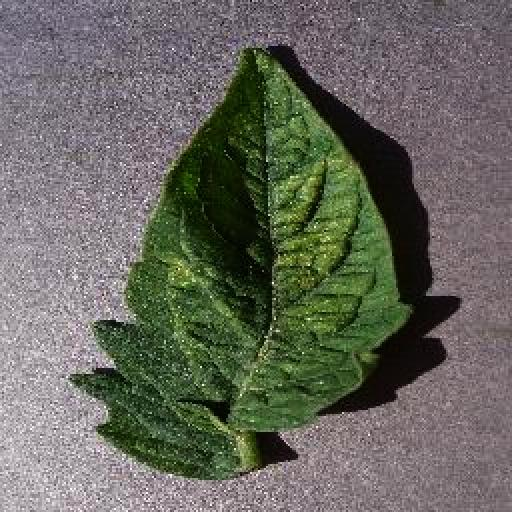disease_tomato: (68, 47, 414, 481)
